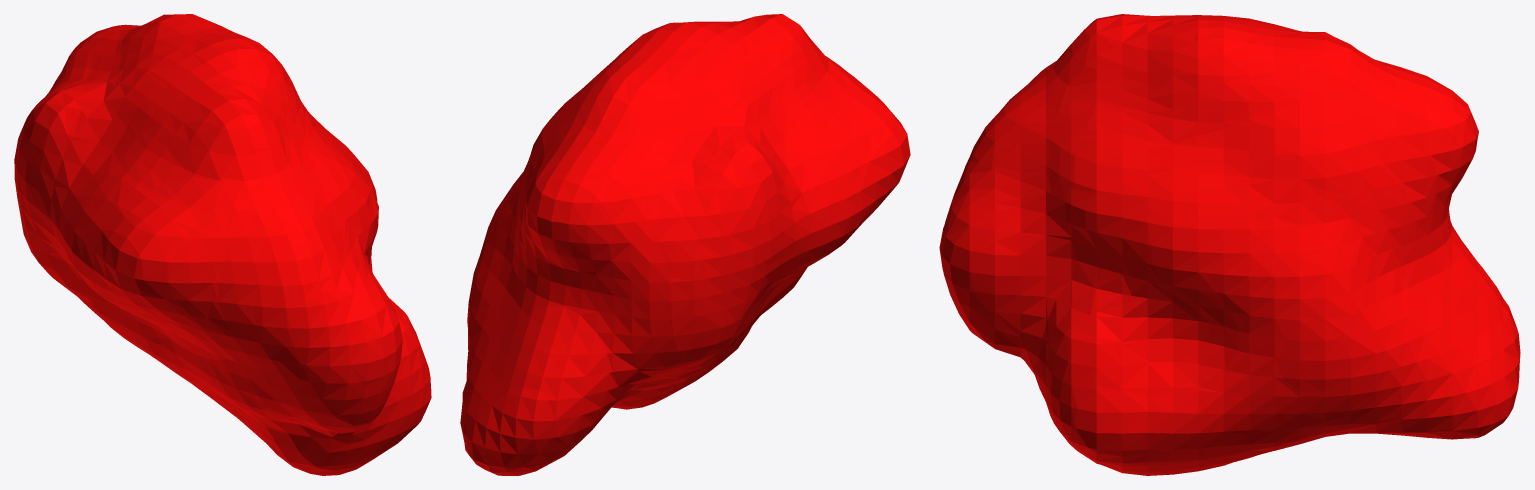
File: ilvN_coarse.dae
The picture shows the model from 3 angles, left to right: view 1: azimuth 30°, elevation 25°; view 2: azimuth 150°, elevation 25°; view 3: azimuth 270°, elevation 25°; orthographic projection. The views are drawn at different scales.
Visible parts, largest first — view 1: ilvN; view 2: ilvN; view 3: ilvN.
Part boxes in pixels (x1=…): ilvN: x1=14, y1=14, x2=431, y2=475; ilvN: x1=460, y1=14, x2=910, y2=475; ilvN: x1=939, y1=14, x2=1520, y2=475.
Bounding box in the file's own units: 30.23 × 36.48 × 46.46.
